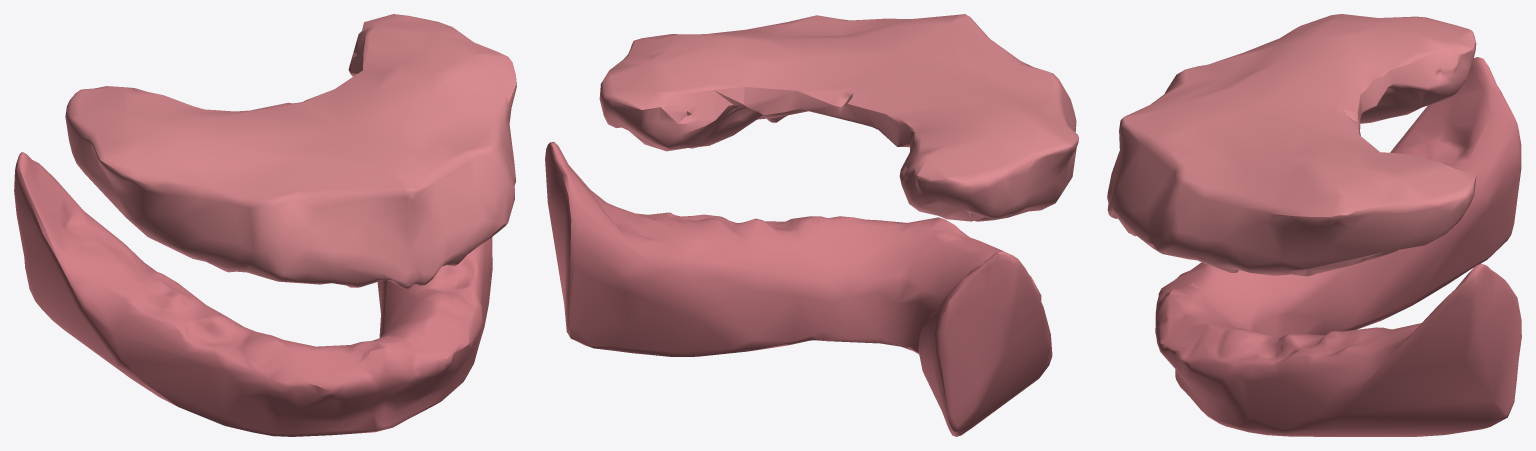
Rendered from gums.glb.
3 renders of one model, left to right at view 1: azimuth 30°, elevation 25°; view 2: azimuth 150°, elevation 25°; view 3: azimuth 270°, elevation 25°, orthographic. The views are drawn at different scales.
Visible parts, largest first — view 1: upper-gum, lower-gum; view 2: lower-gum, upper-gum; view 3: upper-gum, lower-gum.
Part boxes in pixels (left/top/right/bottom): upper-gum: left=65, top=14, right=516, bottom=289; lower-gum: left=14, top=152, right=492, bottom=436; lower-gum: left=545, top=142, right=1052, bottom=436; upper-gum: left=599, top=14, right=1078, bottom=221; upper-gum: left=1107, top=14, right=1476, bottom=276; lower-gum: left=1155, top=57, right=1521, bottom=436.
Size of the model in its own units: 1.88 by 1.14 by 1.51.
